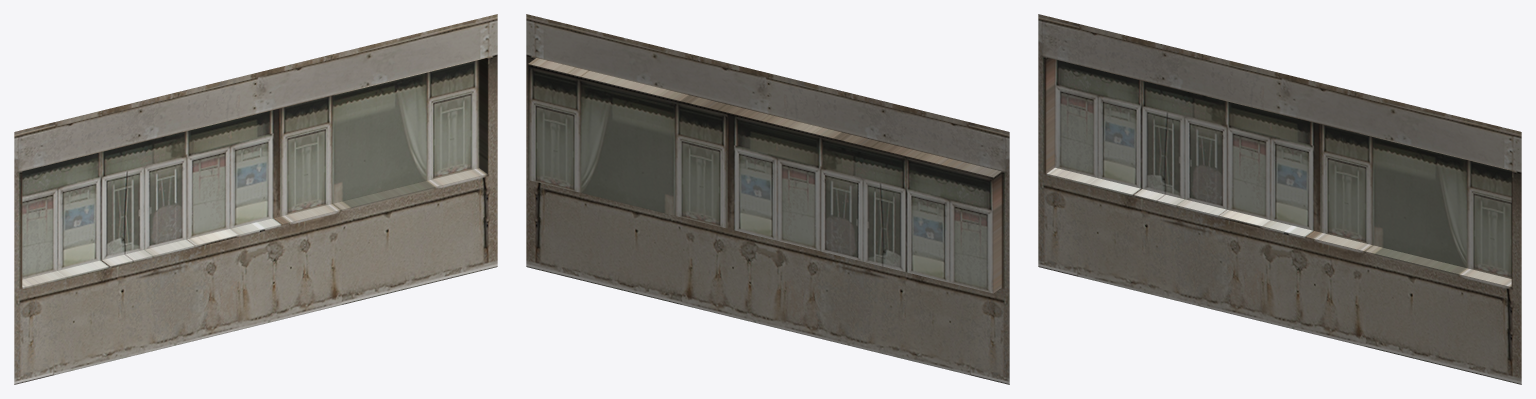
File: CT_Building_Piece_08.fbx
3 renders of one model, left to right at view 1: azimuth 30°, elevation 25°; view 2: azimuth 150°, elevation 25°; view 3: azimuth 330°, elevation 25°, orthographic.
Visible parts, largest first — view 1: CT_Building_Piece_08; view 2: CT_Building_Piece_08; view 3: CT_Building_Piece_08.
Boxes of the visible parts, <box> form: CT_Building_Piece_08: <box>14,14,497,384</box>; CT_Building_Piece_08: <box>526,14,1009,384</box>; CT_Building_Piece_08: <box>1038,14,1521,384</box>.
Bounding box in the file's own units: 512 × 256 × 15.
